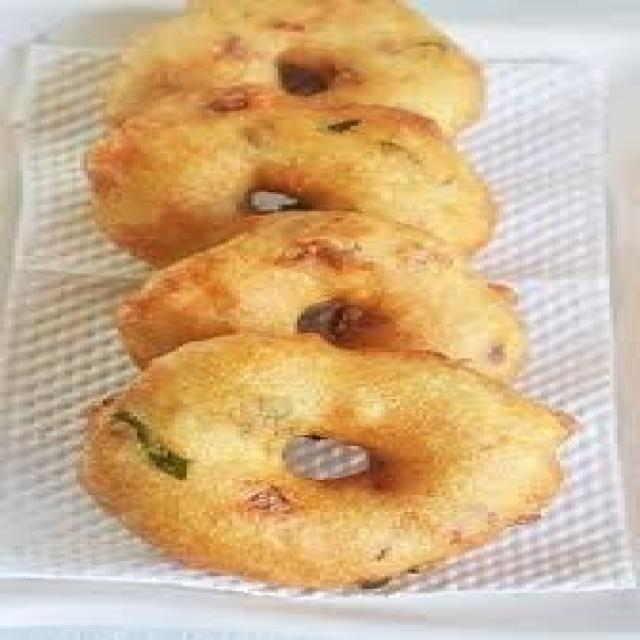medu vadai: (89, 337, 565, 575), (97, 98, 497, 268), (124, 212, 524, 371), (106, 1, 486, 136)
